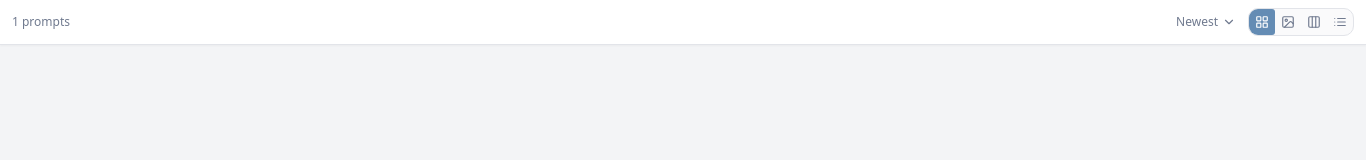
Test: PromptListHeader › switches view mode to gallery and reveals the size picker
The width and height of the screenshot is (1366, 160).
Click the button named "Gallery View": (1288, 22) [1275,9,1301,35]
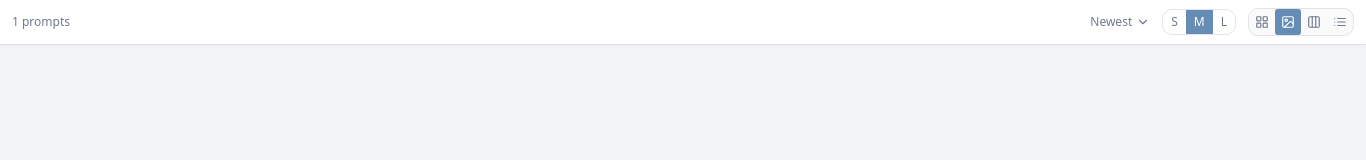
Expected: the button "S" is shown, [1163,10,1186,34]
Expected: the button "M" is shown, [1186,10,1213,34]
Expected: the button "L" is shown, [1213,10,1235,34]
